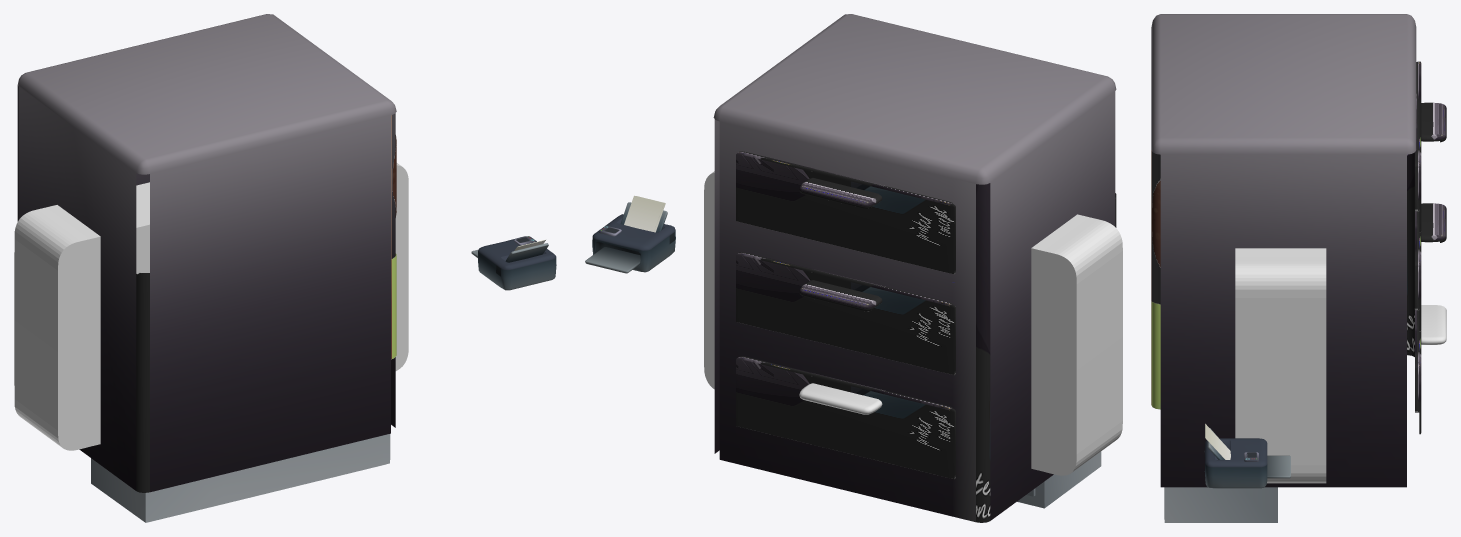
File: mesh_printer_001.fbx
3 views of the same model, side by side, from view 1: azimuth 30°, elevation 25°; view 2: azimuth 150°, elevation 25°; view 3: azimuth 270°, elevation 25° (orthographic). The views are drawn at different scales.
Visible parts, largest first — view 1: cabinet, monitor_backup, Desk, printer; view 2: cabinet, monitor_backup, upper_drawer, middle_drawer, bottom_drawer, printer, Desk, bottom_hand_thingy, middle_hand_thingy, top_hand_thingy, paper 2; view 3: cabinet, monitor_backup, Desk, printer, upper_drawer, bottom_hand_thingy, top_hand_thingy, middle_hand_thingy, bottom_drawer, middle_drawer, paper 2.
Part boxes in pixels (x1,y1,x2,y2): cabinet: (17,14,396,492); monitor_backup: (14,163,408,450); Desk: (91,434,390,522); printer: (471,236,556,290); cabinet: (713,14,1116,522); monitor_backup: (704,171,1122,475); upper_drawer: (736,151,955,282); middle_drawer: (736,252,955,374); bottom_drawer: (736,356,955,478); printer: (585,202,675,273); Desk: (1017,451,1101,508); bottom_hand_thingy: (799,383,882,414); middle_hand_thingy: (799,280,882,311); top_hand_thingy: (799,178,882,208); paper 2: (624,195,663,231); cabinet: (1151,14,1416,487); monitor_backup: (1235,248,1326,483); Desk: (1164,487,1277,522); printer: (1204,428,1290,488); upper_drawer: (1415,61,1421,232); bottom_hand_thingy: (1421,305,1446,344); top_hand_thingy: (1421,102,1446,142); middle_hand_thingy: (1421,203,1446,242); bottom_drawer: (1415,310,1421,434); middle_drawer: (1415,211,1421,331); paper 2: (1205,424,1230,459).
Size of the model in its own units: 694 by 498 by 348.
